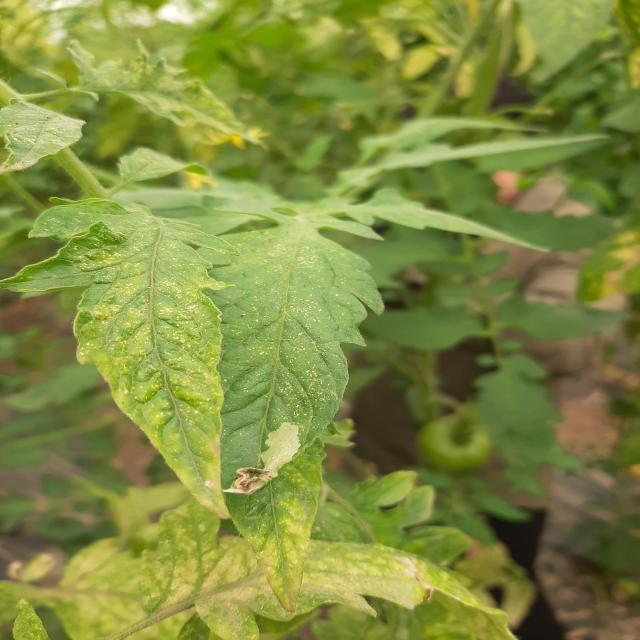Tuta absoluta: (220, 415, 311, 511)
